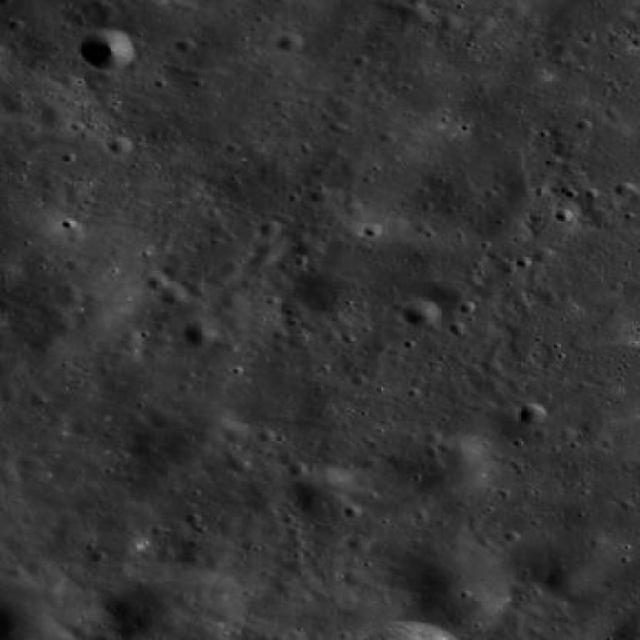crater: (384, 531, 518, 631), (130, 395, 233, 473), (514, 521, 610, 594), (294, 466, 377, 528), (408, 435, 490, 497), (237, 468, 300, 516), (0, 64, 54, 112), (78, 28, 136, 72), (546, 562, 591, 596), (0, 252, 28, 292), (400, 298, 440, 326), (36, 102, 72, 130), (50, 284, 84, 310), (182, 318, 216, 344), (148, 402, 182, 428), (156, 281, 189, 304), (12, 454, 43, 477), (518, 402, 548, 424), (220, 290, 248, 310), (409, 4, 437, 24), (275, 32, 303, 52), (344, 533, 370, 553), (221, 422, 247, 442), (108, 136, 132, 155), (226, 454, 251, 472), (532, 246, 556, 263), (144, 272, 168, 288), (256, 220, 278, 237), (438, 14, 460, 30), (614, 178, 636, 194), (505, 0, 526, 15), (0, 1, 1, 2)
